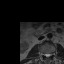CCS_normal: (46, 52, 48, 60)
LFS_normal: (50, 51, 52, 57)
LLS_normal: (48, 52, 50, 58)
RFS_stenosis: (43, 52, 45, 57)
RLS_normal: (45, 52, 46, 58)
